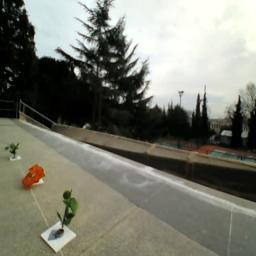herb: (57, 189, 80, 230), (6, 142, 21, 160)
wild: (21, 164, 47, 190)
